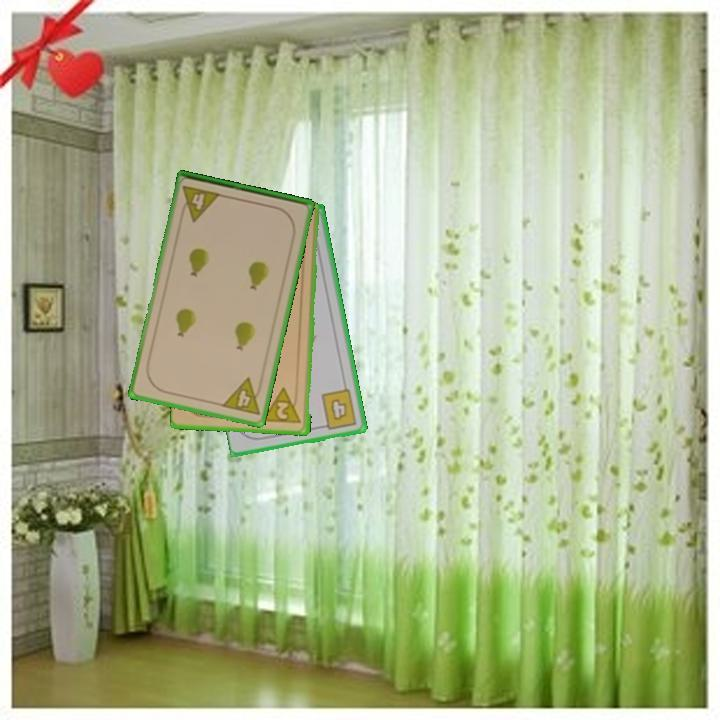2p: (261, 385, 305, 427)
4b: (317, 385, 360, 432)
4p: (218, 374, 266, 419), (177, 182, 224, 224)
